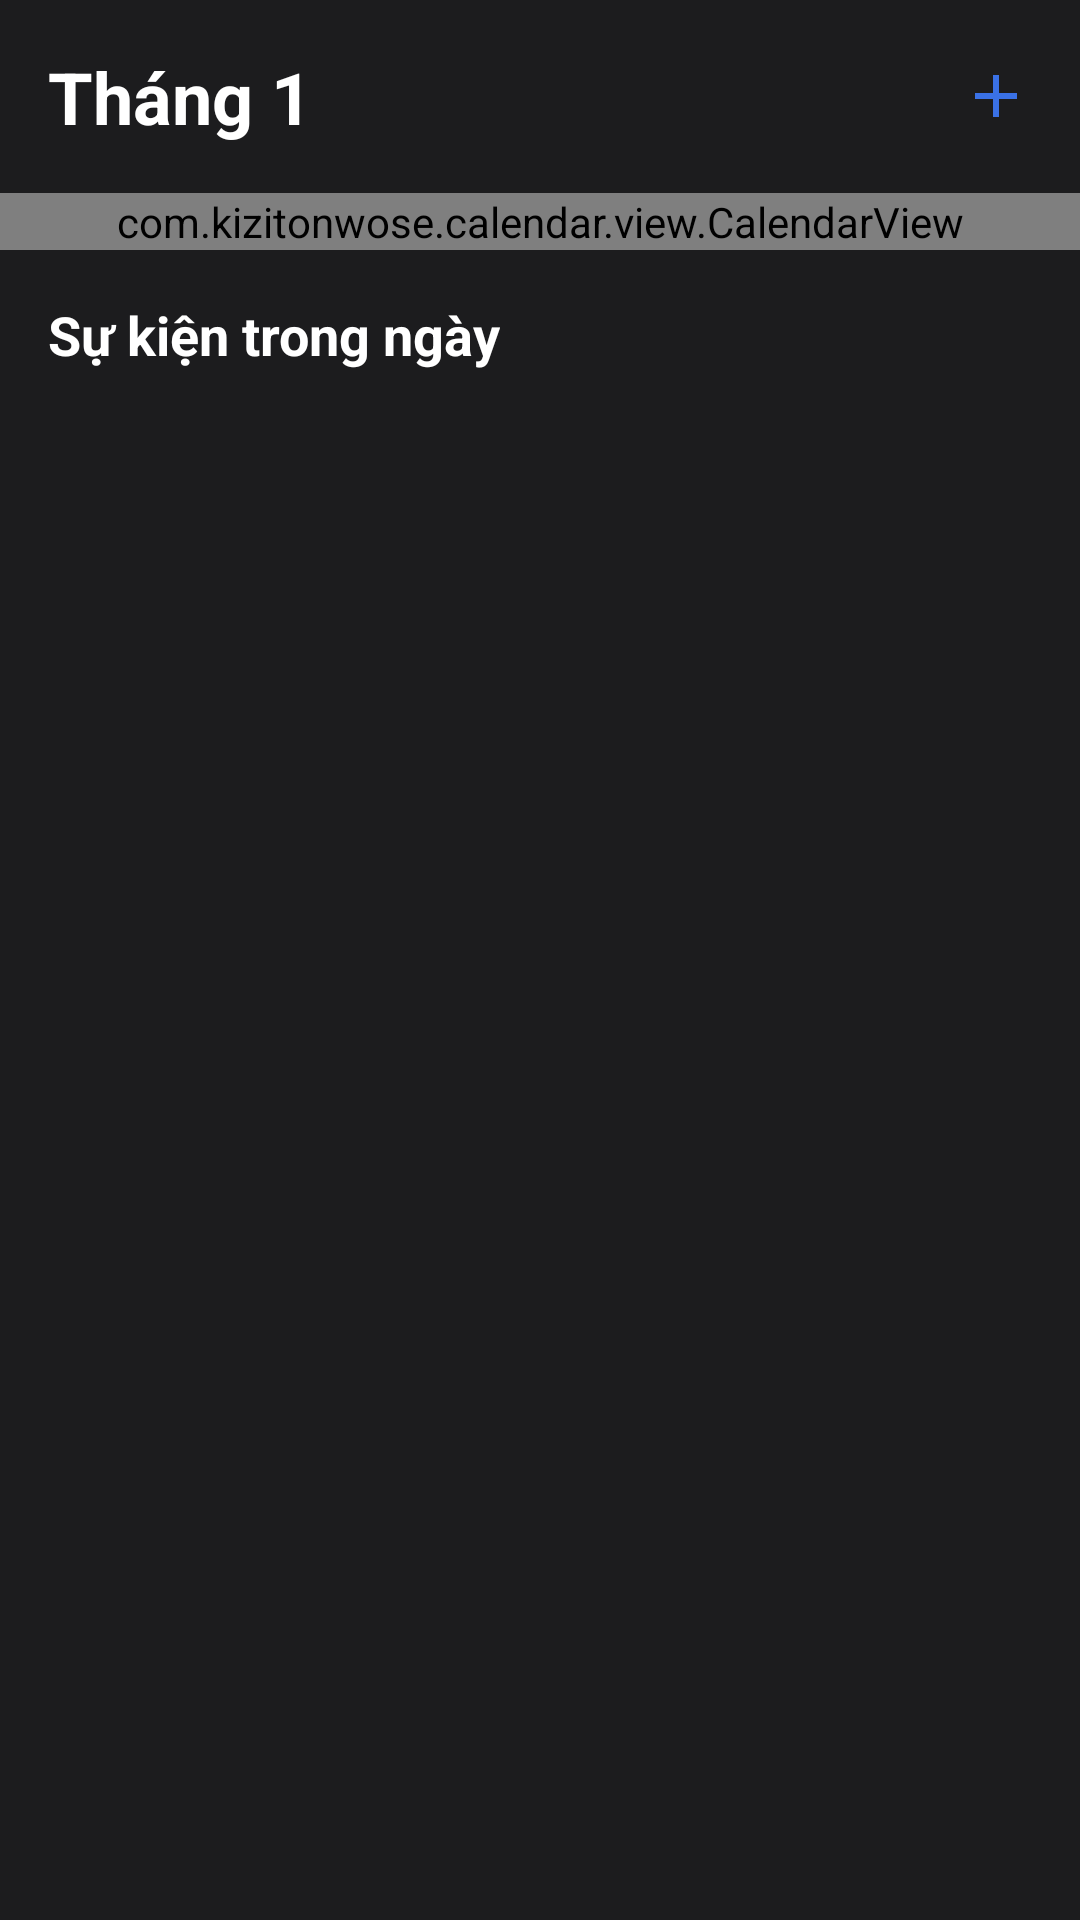

Named icons in this screenshot (1080×1920) and their bounding boxes, box=[x1, y1, x2, y2]:
add: box=[975, 75, 1017, 117]
